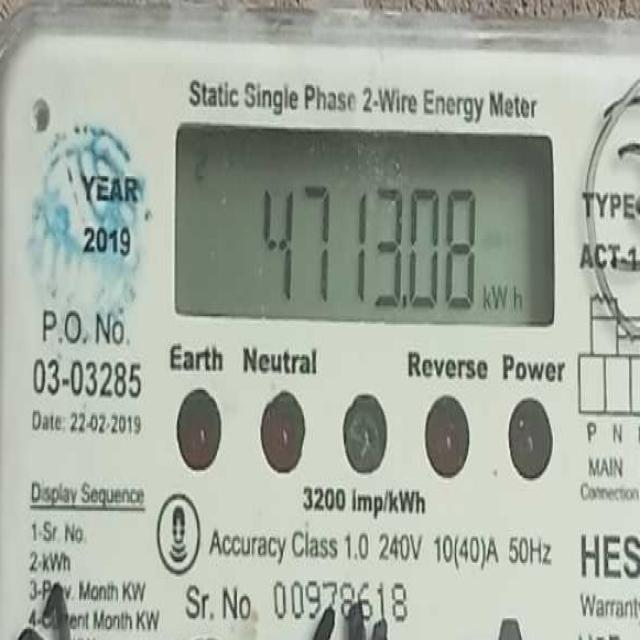.: (398, 290, 413, 314)
0: (404, 149, 441, 314)
1: (350, 151, 373, 313)
3: (375, 151, 402, 309)
4: (244, 149, 300, 310)
7: (302, 152, 347, 306)
8: (444, 154, 477, 314)
Digital meter: (178, 126, 555, 322)
